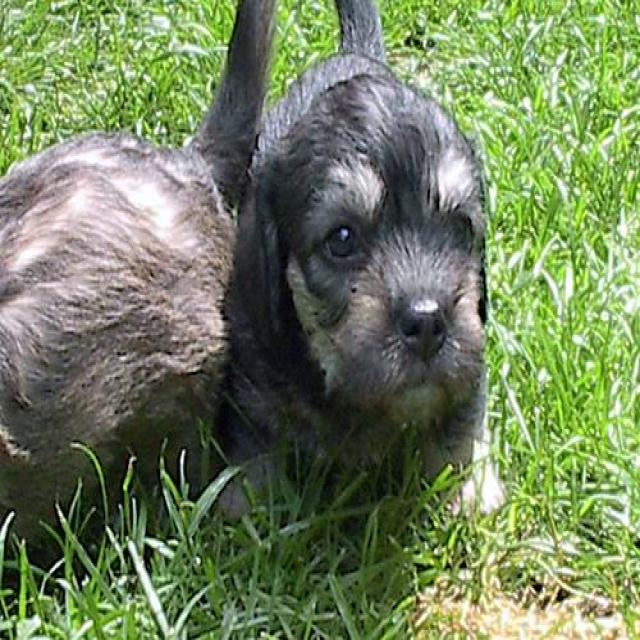dandie_dinmont: (1, 0, 282, 555), (212, 0, 504, 528)
